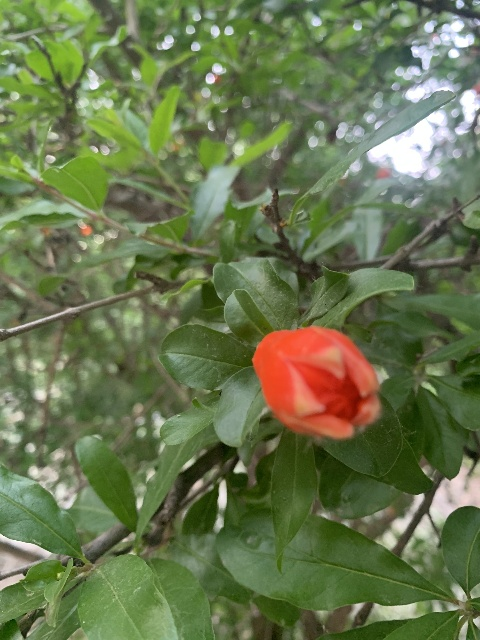flower: (252, 326, 380, 440)
